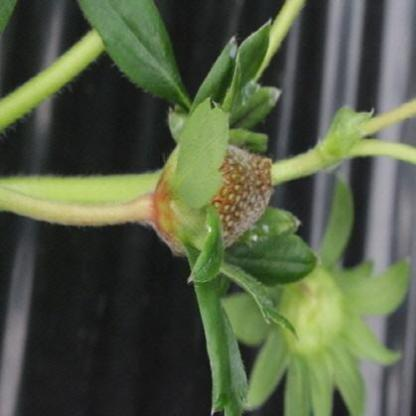Strawberry_Gray_Mold: (209, 141, 273, 252)
